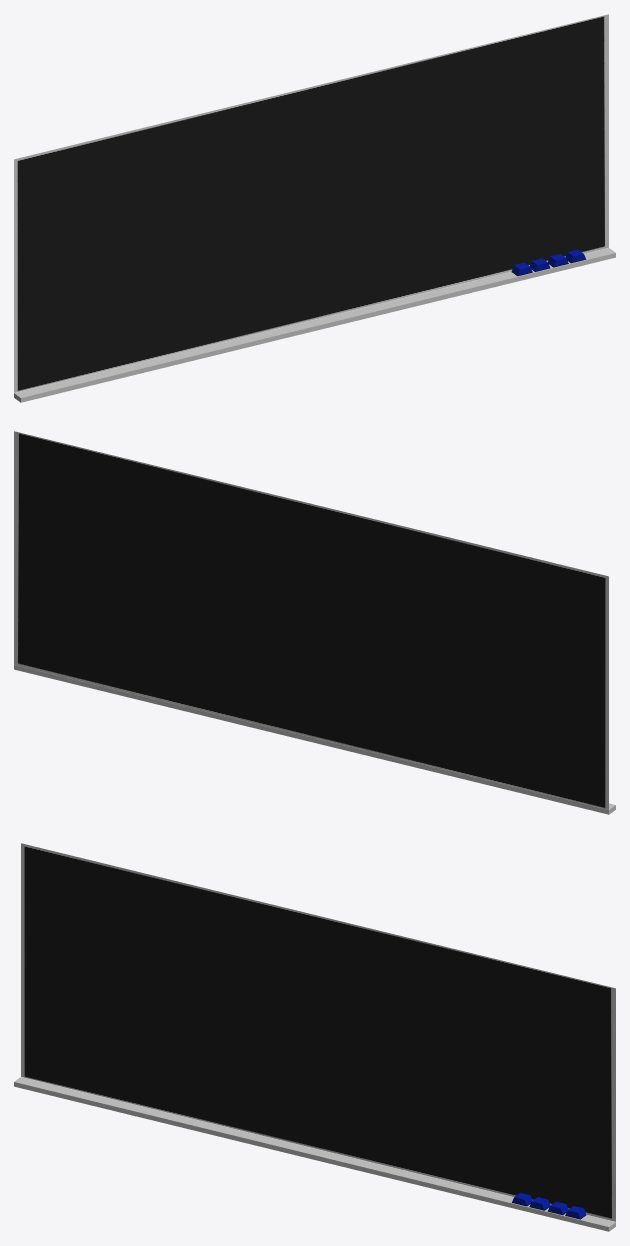
Rendered from BlackboardGame2.fbx.
3 renders of one model, top to bottom at view 1: azimuth 30°, elevation 25°; view 2: azimuth 150°, elevation 25°; view 3: azimuth 330°, elevation 25°, orthographic.
Parts seen in each view (by area): view 1: pPlane1, pCube1; view 2: pPlane1, pCube1; view 3: pPlane1, pCube1.
Boxes of the visible parts, x1,y1,x2,y2 form: pPlane1: (14, 14, 608, 392); pCube1: (14, 248, 615, 402); pPlane1: (14, 431, 608, 809); pCube1: (14, 665, 615, 814); pPlane1: (21, 843, 615, 1221); pCube1: (14, 1077, 615, 1231).
Bounding box in the file's own units: 400 × 153 × 8.03.
Materials: 4 (1 with a texture image).
